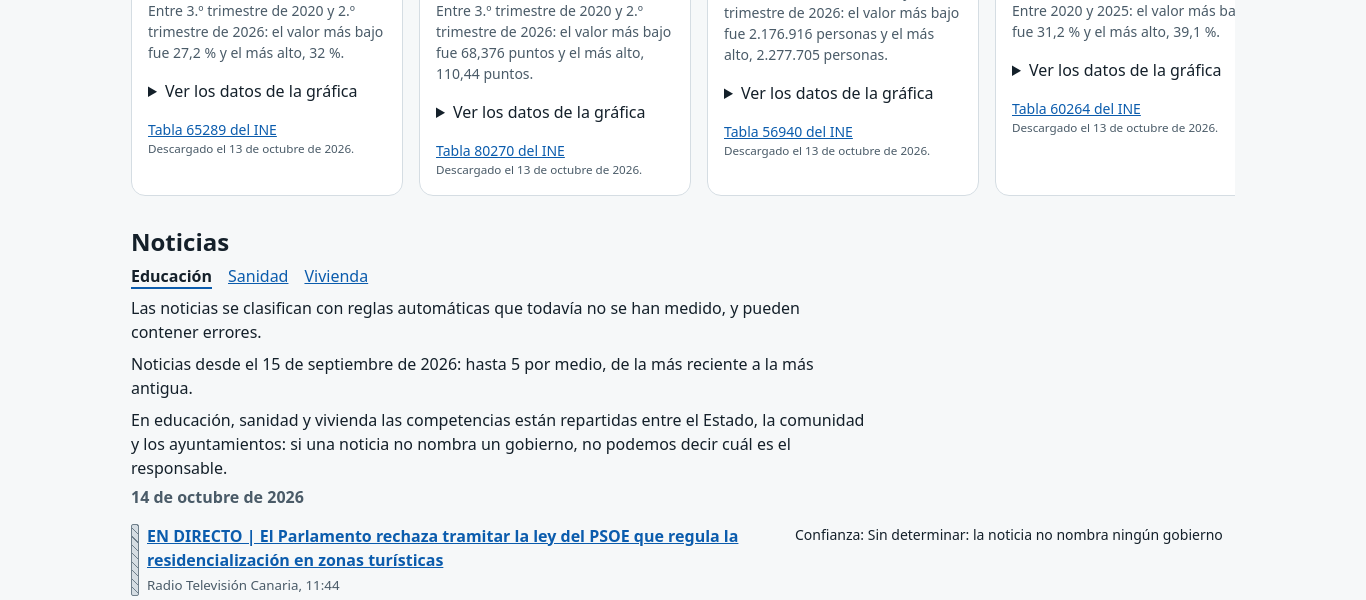
Test: news of a community › changes the sector with a link, asks the API for it and keeps the focus on the link
(page scrolled)
Expected: the text "Noticias desde el" is shown, left=131, top=353, right=814, bottom=399
Click the link "Vivienda".
click(336, 276)  # box left=304, top=265, right=368, bottom=287
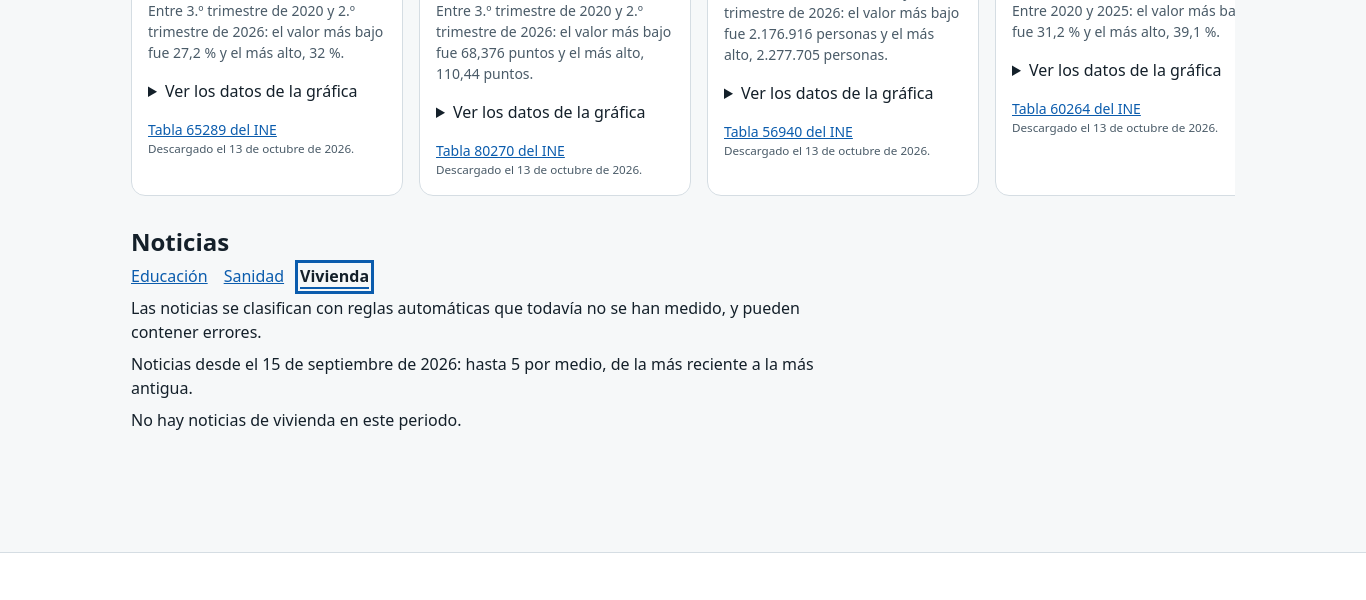
Expected: the text "No hay noticias de vivienda en este periodo." is shown, left=131, top=409, right=462, bottom=431
